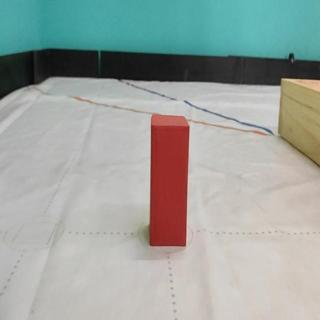redbox: (148, 113, 190, 248)
